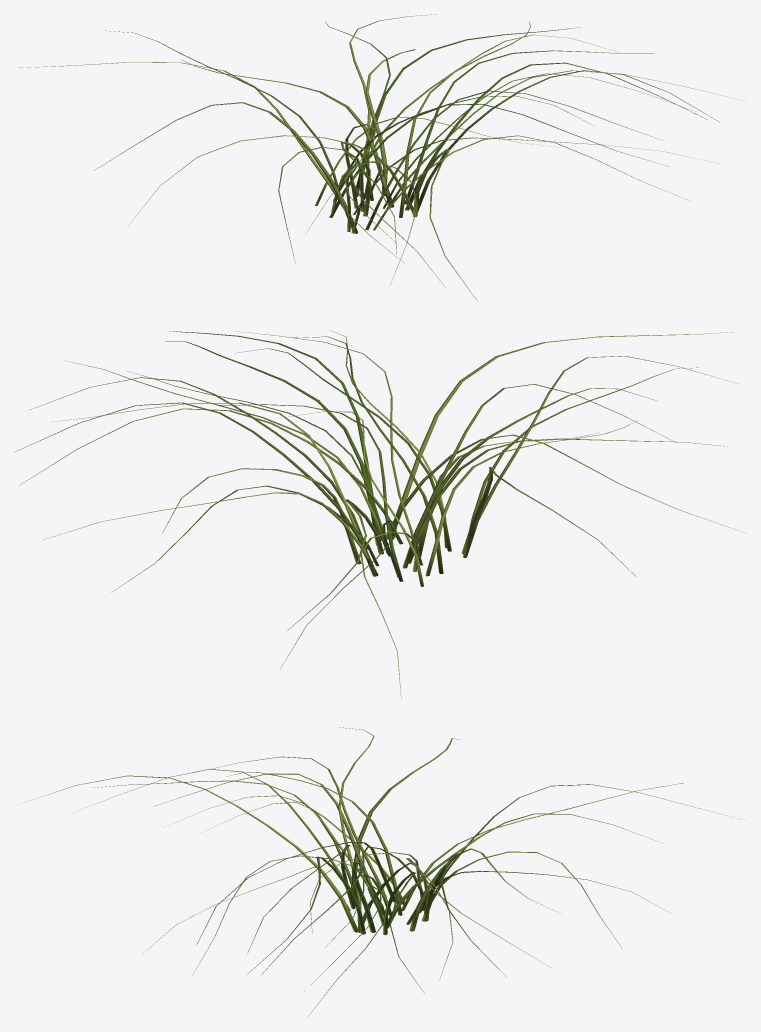
The model's file is filament-0.glb.
3 views of the same model, one above another, from view 1: azimuth 30°, elevation 25°; view 2: azimuth 150°, elevation 25°; view 3: azimuth 270°, elevation 25° (orthographic). The views are drawn at different scales.
Parts seen in each view (by area): view 1: Filament_0; view 2: Filament_0; view 3: Filament_0.
Part boxes in pixels (x1=…): Filament_0: x1=19, y1=14, x2=745, y2=301; Filament_0: x1=14, y1=330, x2=746, y2=698; Filament_0: x1=24, y1=727, x2=741, y2=1016.
Size of the model in its own units: 2.01 by 0.3968 by 2.21.
